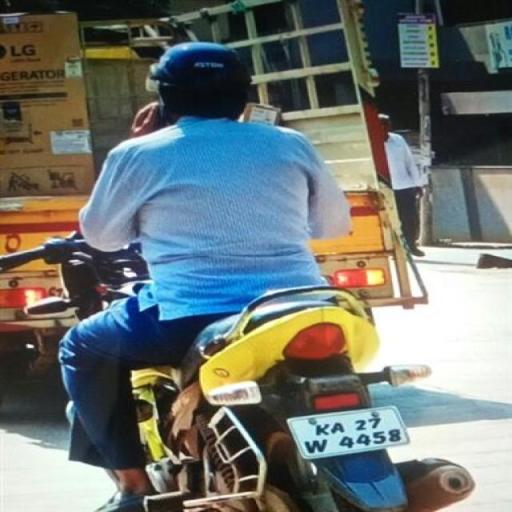numberplate: (286, 397, 409, 462)
using mobile: (135, 91, 178, 135)
